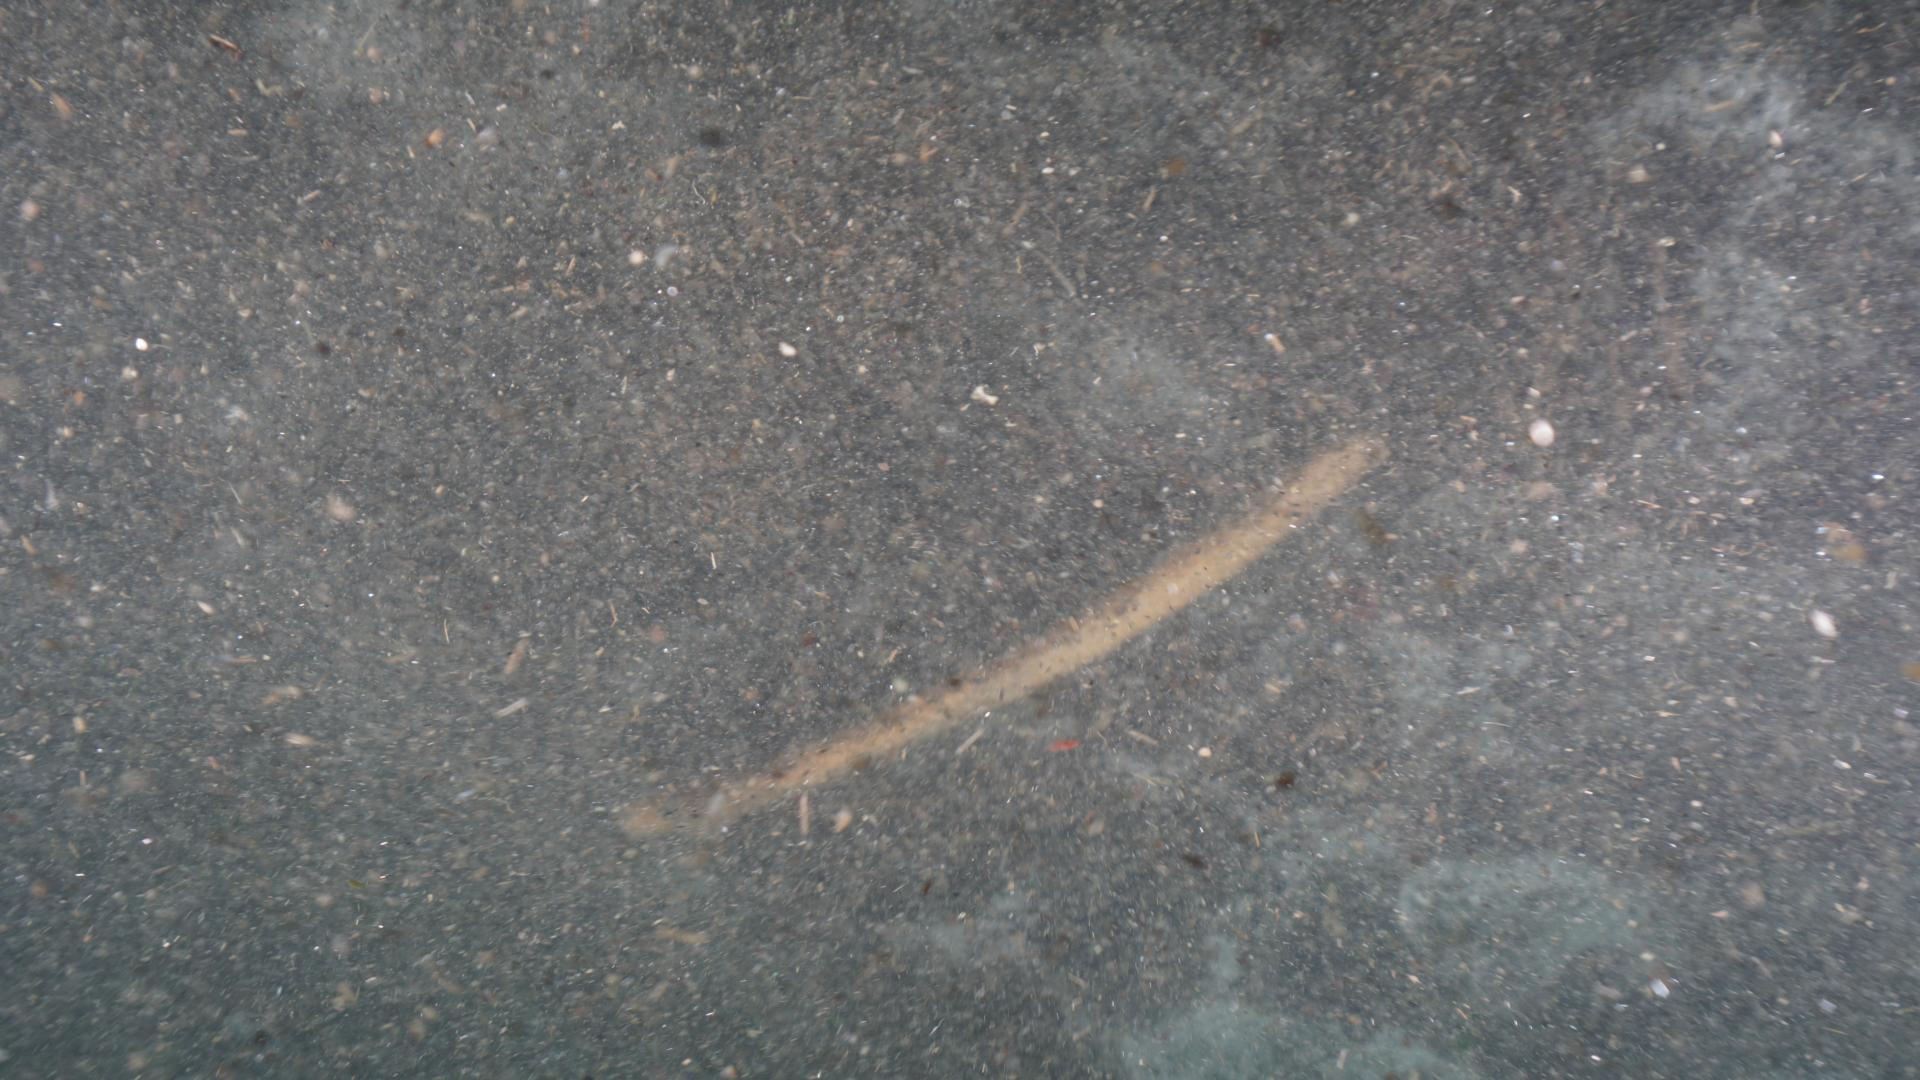wood: (607, 433, 1390, 840)
